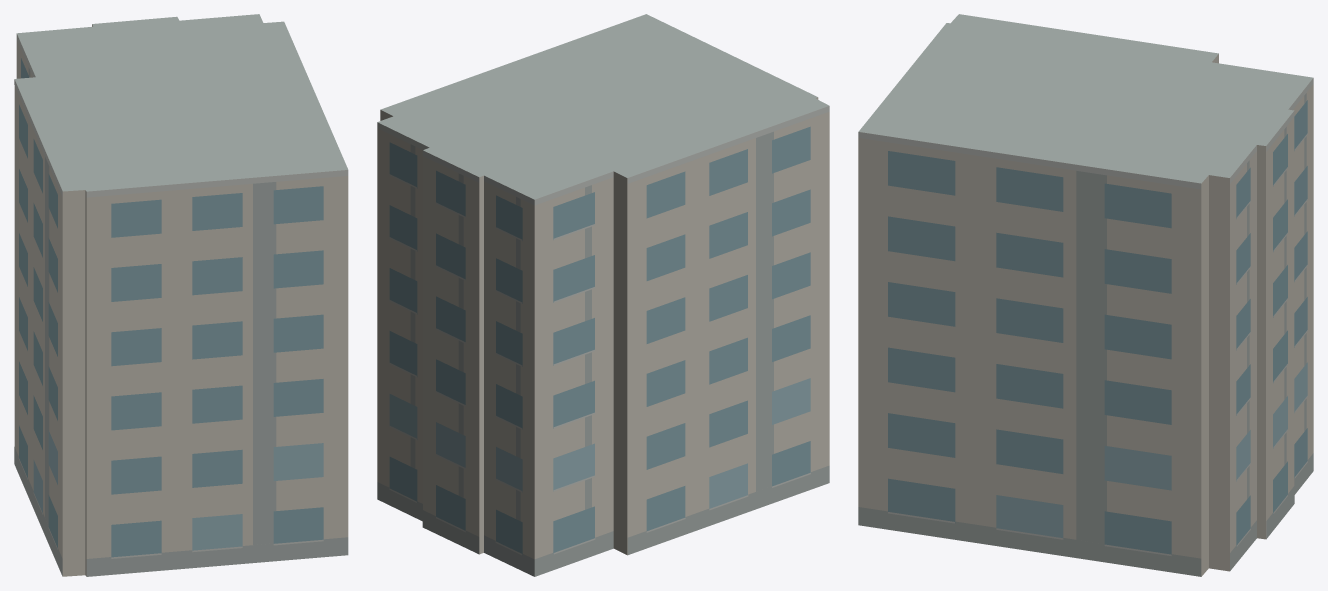
Rendered from survey-upis-32890004.glb.
3 renders of one model, left to right at view 1: azimuth 30°, elevation 25°; view 2: azimuth 150°, elevation 25°; view 3: azimuth 270°, elevation 25°, orthographic. The views are drawn at different scales.
Visible parts, largest first — view 1: survey-upis-32890004.tmp; view 2: survey-upis-32890004.tmp; view 3: survey-upis-32890004.tmp.
Boxes of the visible parts, x1=… form: survey-upis-32890004.tmp: x1=14, y1=14, x2=348, y2=576; survey-upis-32890004.tmp: x1=377, y1=14, x2=829, y2=576; survey-upis-32890004.tmp: x1=858, y1=14, x2=1313, y2=576.
Bounding box in the file's own units: 14.52 × 15.7 × 16.48.
